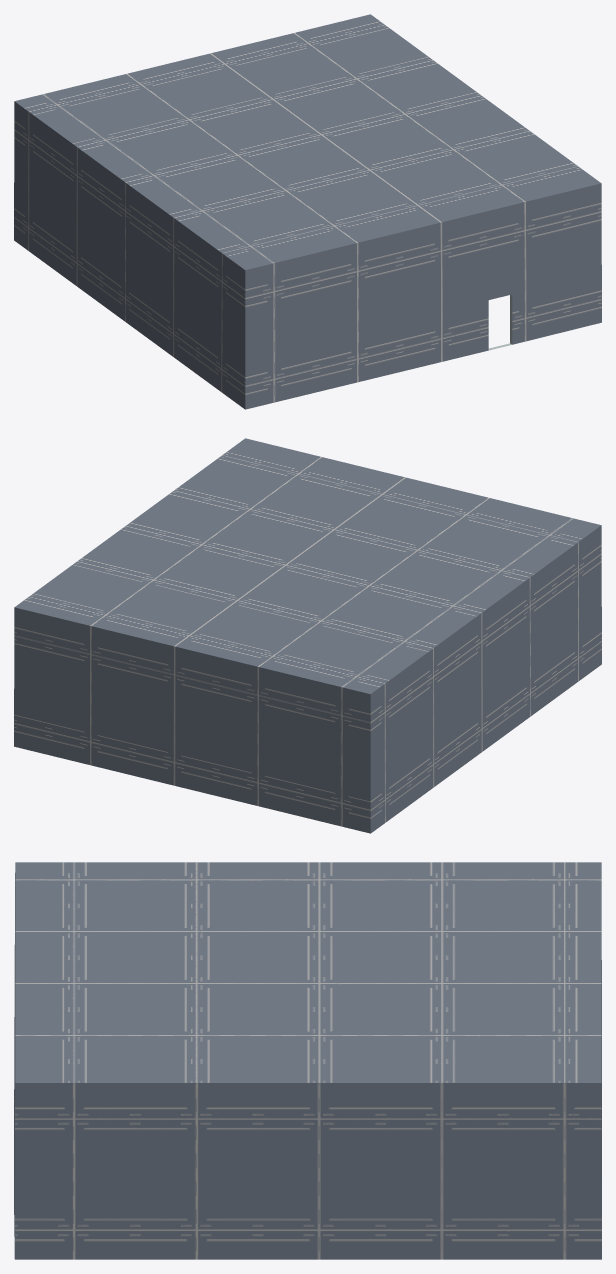
File: Empty_Room.fbx
3 views of the same model, one above another, from view 1: azimuth 30°, elevation 25°; view 2: azimuth 150°, elevation 25°; view 3: azimuth 270°, elevation 25° (orthographic). The views are drawn at different scales.
Visible parts, largest first — view 1: Empty_Room; view 2: Empty_Room; view 3: Empty_Room.
Boxes of the visible parts, left/top/right/bottom form: Empty_Room: left=14, top=14, right=601, bottom=409; Empty_Room: left=14, top=438, right=601, bottom=833; Empty_Room: left=14, top=862, right=601, bottom=1259.
Bounding box in the file's own units: 4898 × 1827 × 5508.
